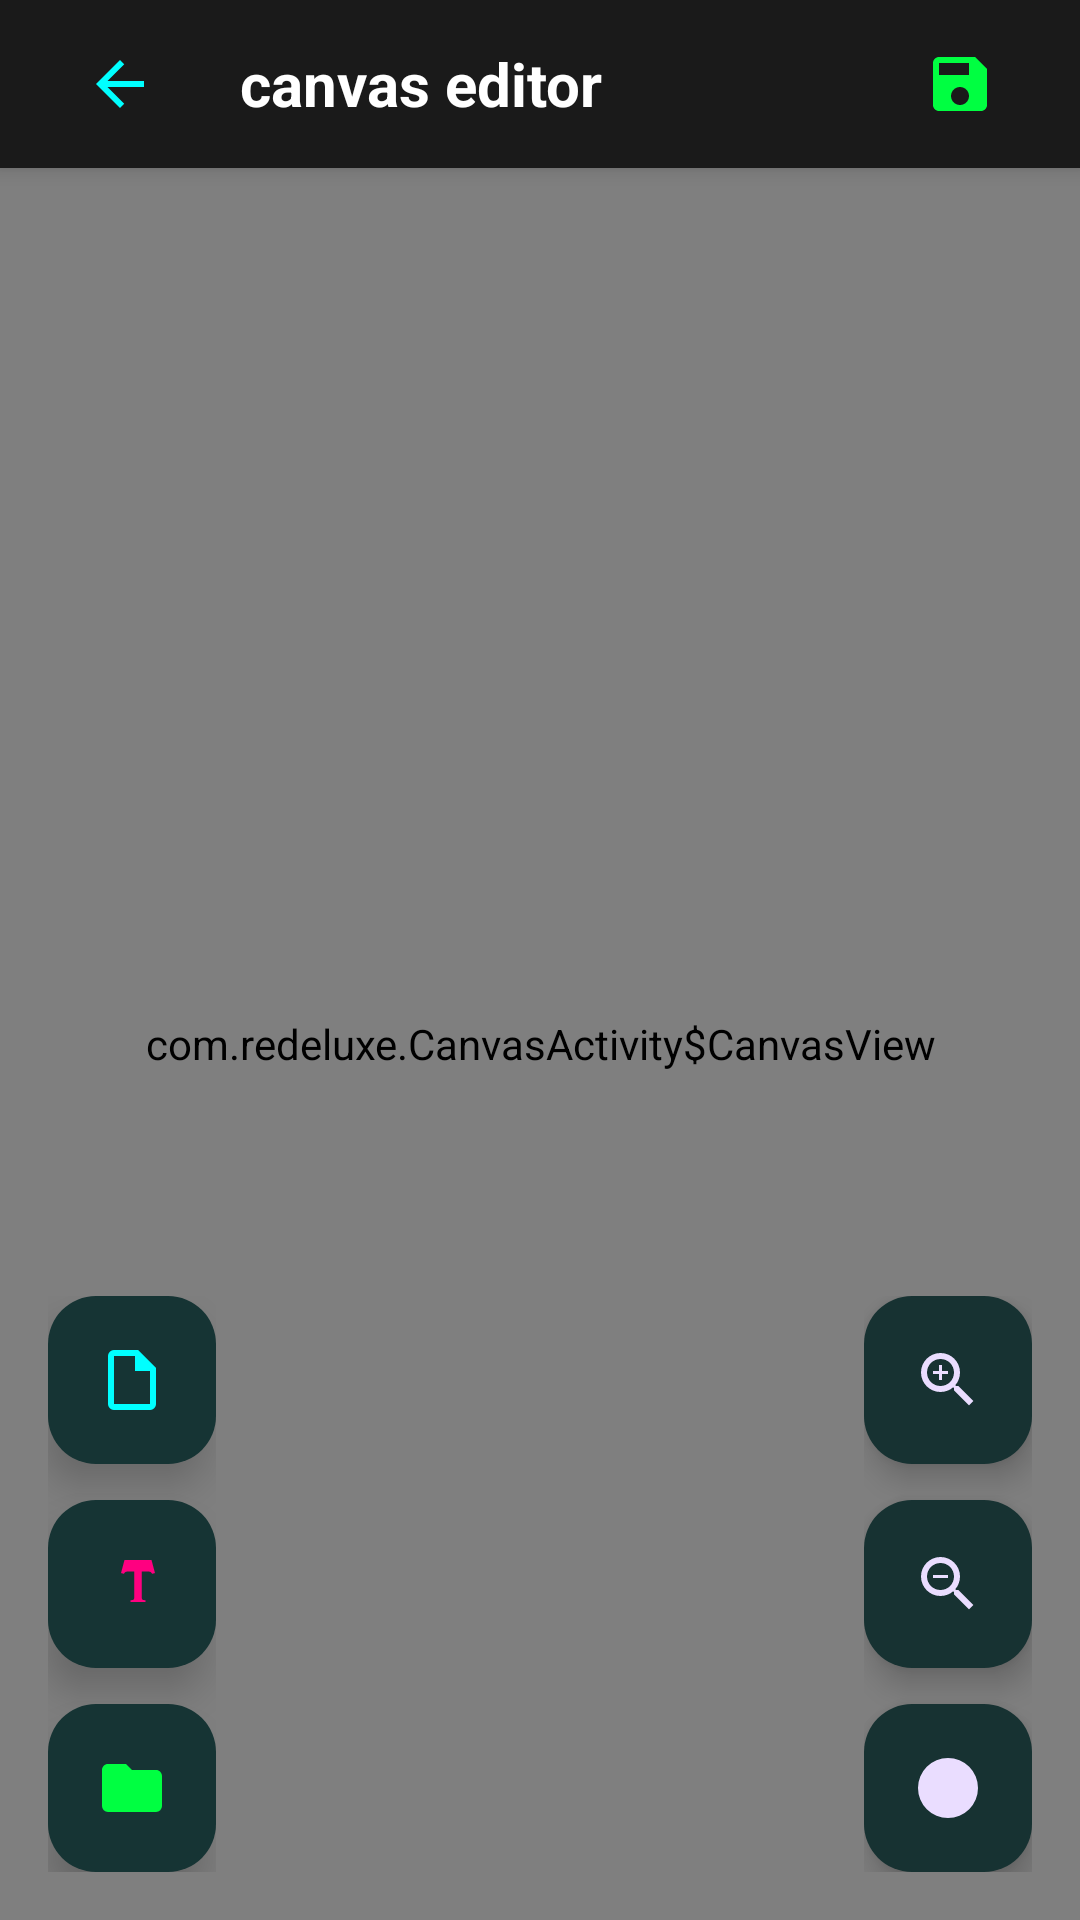

Icons on this 1080 × 1920 Android screen, each with the point to tap as [x,y]:
note: [132,1380]
text: [132,1584]
zoom in: [948,1380]
zoom out: [948,1584]
назад: [120,84]
сохранить: [960,84]
